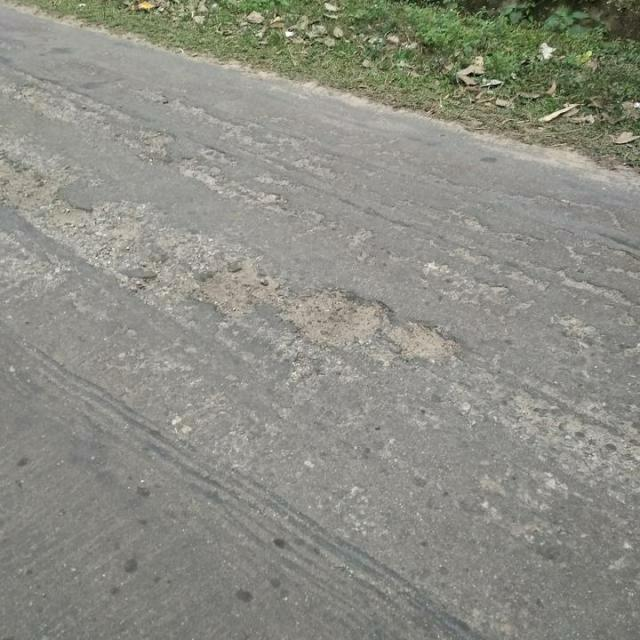Pothole: (280, 283, 398, 348), (196, 260, 287, 319), (385, 317, 461, 357), (1, 146, 50, 203)
